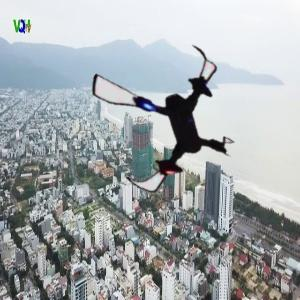drone: (84, 38, 245, 199)
